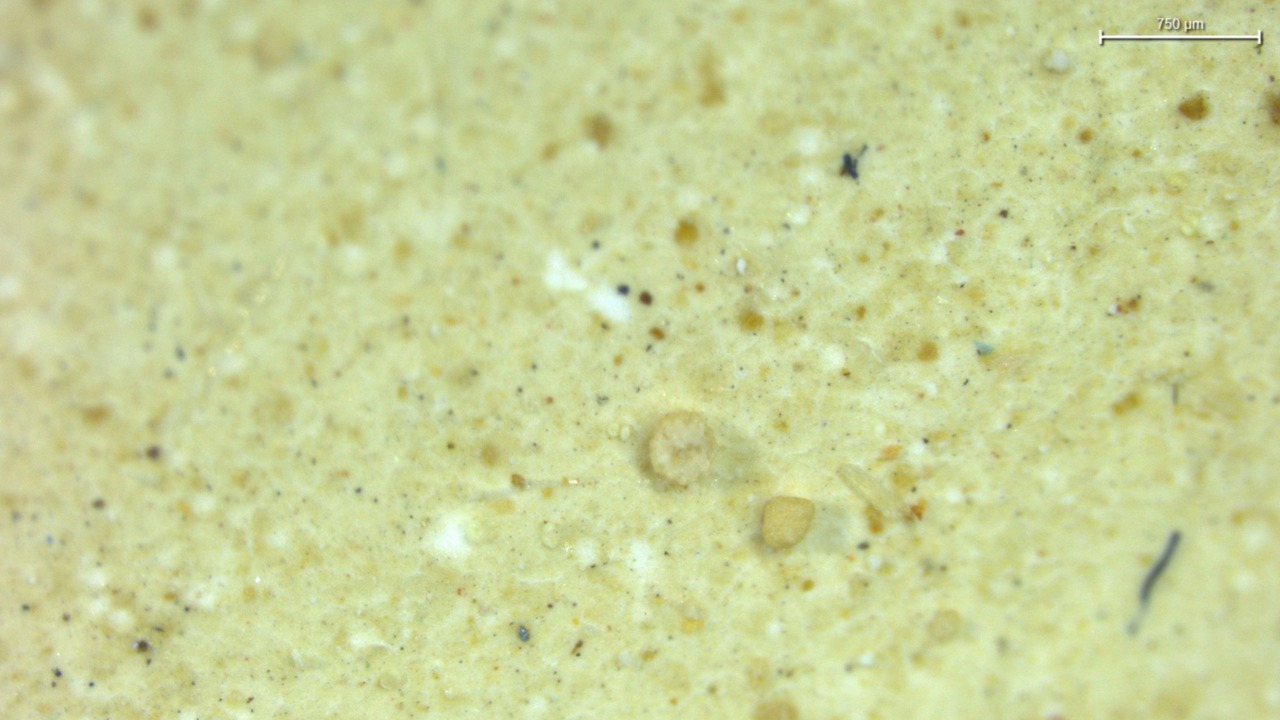microplastic_fragment: (655, 411, 717, 486), (759, 497, 818, 553)
